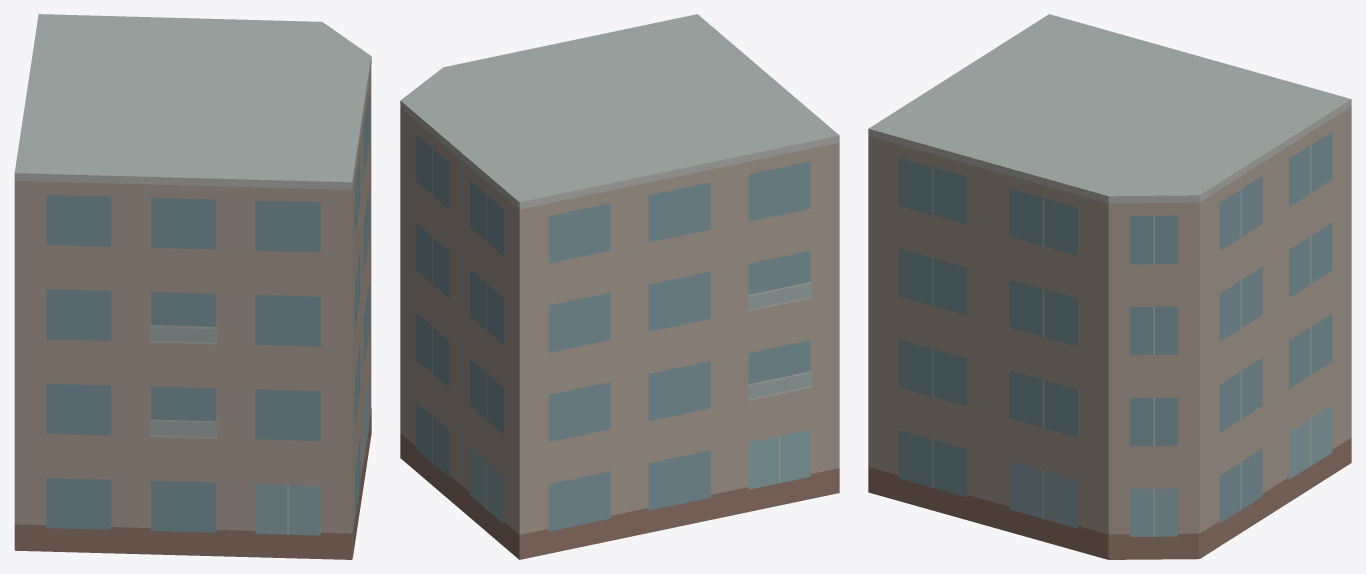
The model's file is residential-ebef9221-0306-47cd-9f42-fd4ad4badfcc.glb.
3 views of the same model, side by side, from view 1: azimuth 30°, elevation 25°; view 2: azimuth 150°, elevation 25°; view 3: azimuth 270°, elevation 25° (orthographic). The views are drawn at different scales.
Visible parts, largest first — view 1: residential-ebef9221-0306-47cd-9f42-fd4ad4badfcc.tmp; view 2: residential-ebef9221-0306-47cd-9f42-fd4ad4badfcc.tmp; view 3: residential-ebef9221-0306-47cd-9f42-fd4ad4badfcc.tmp.
Boxes of the visible parts, x1=… form: residential-ebef9221-0306-47cd-9f42-fd4ad4badfcc.tmp: x1=14, y1=14, x2=371, y2=559; residential-ebef9221-0306-47cd-9f42-fd4ad4badfcc.tmp: x1=400, y1=14, x2=839, y2=559; residential-ebef9221-0306-47cd-9f42-fd4ad4badfcc.tmp: x1=868, y1=14, x2=1351, y2=559.
Bounding box in the file's own units: 13.12 × 12.2 × 14.7.
